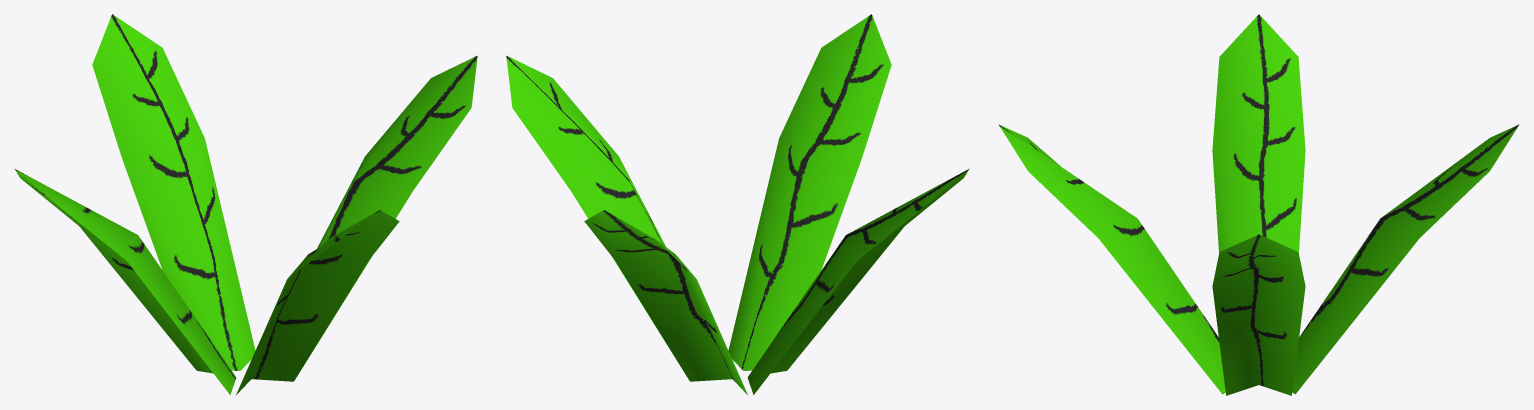
File: Gras.FBX
3 renders of one model, left to right at view 1: azimuth 30°, elevation 25°; view 2: azimuth 150°, elevation 25°; view 3: azimuth 270°, elevation 25°, orthographic. The views are drawn at different scales.
Parts seen in each view (by area): view 1: Blad; view 2: Blad; view 3: Blad.
Boxes of the visible parts, box(x1,y1,x2,y2) form: Blad: box(14, 14, 477, 394); Blad: box(506, 14, 969, 394); Blad: box(998, 14, 1519, 395).
Bounding box in the file's own units: 30.49 × 30.49 × 16.54.
Materials: 1 (1 with a texture image).
